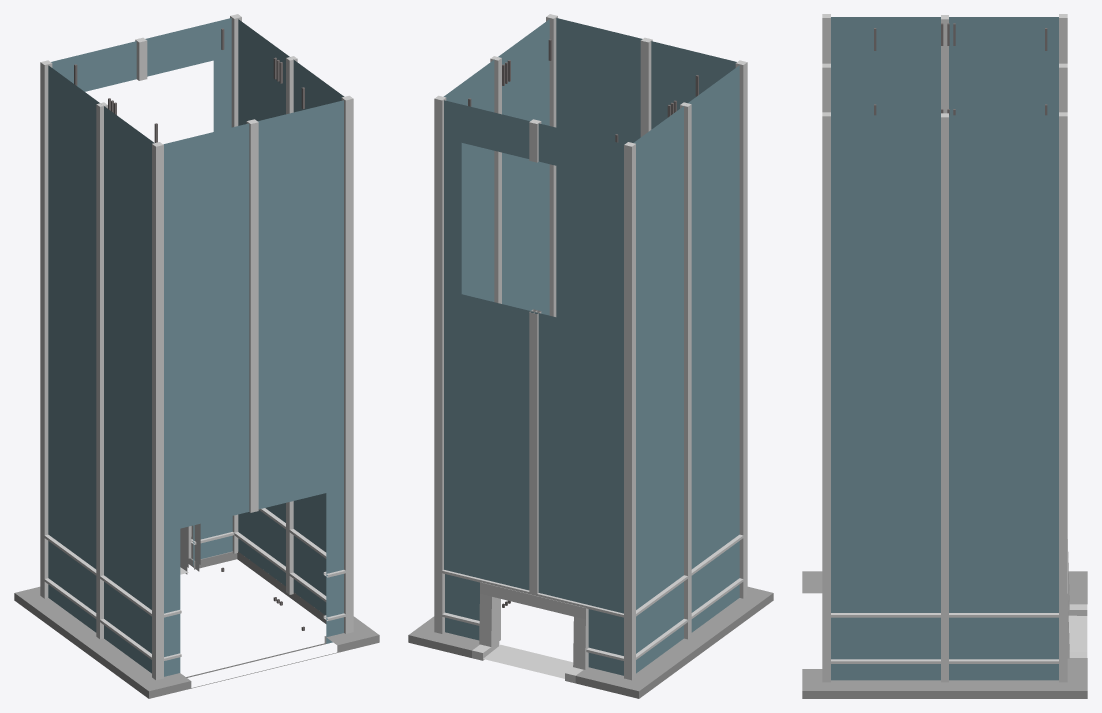
The model's file is lift-shaft-2-0.glb.
The picture shows the model from 3 angles, left to right: view 1: azimuth 30°, elevation 25°; view 2: azimuth 150°, elevation 25°; view 3: azimuth 270°, elevation 25°; orthographic projection. The views are drawn at different scales.
Parts seen in each view (by area): view 1: BackUpWithMirror.001_Cube.004 / Glass, BackUpWithMirror.001_Cube.004 / Metal, BackUpWithMirror.001_Cube.004 / Beton, BackUpWithMirror.001_Cube.004 / BlackMetal; view 2: BackUpWithMirror.001_Cube.004 / Glass, BackUpWithMirror.001_Cube.004 / Metal, BackUpWithMirror.001_Cube.004 / Beton, BackUpWithMirror.001_Cube.004 / BlackMetal; view 3: BackUpWithMirror.001_Cube.004 / Glass, BackUpWithMirror.001_Cube.004 / Metal, BackUpWithMirror.001_Cube.004 / Beton, BackUpWithMirror.001_Cube.004 / BlackMetal.
Boxes of the visible parts, x1,y1,x2,y2 form: BackUpWithMirror.001_Cube.004 / Glass: (48, 18, 344, 676); BackUpWithMirror.001_Cube.004 / Metal: (40, 14, 353, 680); BackUpWithMirror.001_Cube.004 / Beton: (14, 551, 379, 698); BackUpWithMirror.001_Cube.004 / BlackMetal: (74, 28, 304, 630); BackUpWithMirror.001_Cube.004 / Glass: (443, 18, 739, 675); BackUpWithMirror.001_Cube.004 / Metal: (434, 14, 747, 683); BackUpWithMirror.001_Cube.004 / Beton: (408, 586, 773, 698); BackUpWithMirror.001_Cube.004 / BlackMetal: (468, 39, 698, 607); BackUpWithMirror.001_Cube.004 / Glass: (831, 17, 1058, 680); BackUpWithMirror.001_Cube.004 / Metal: (822, 14, 1087, 682); BackUpWithMirror.001_Cube.004 / Beton: (802, 571, 1087, 698); BackUpWithMirror.001_Cube.004 / BlackMetal: (874, 23, 1047, 115).
Size of the model in its own units: 8.52 by 19.22 by 8.61.
